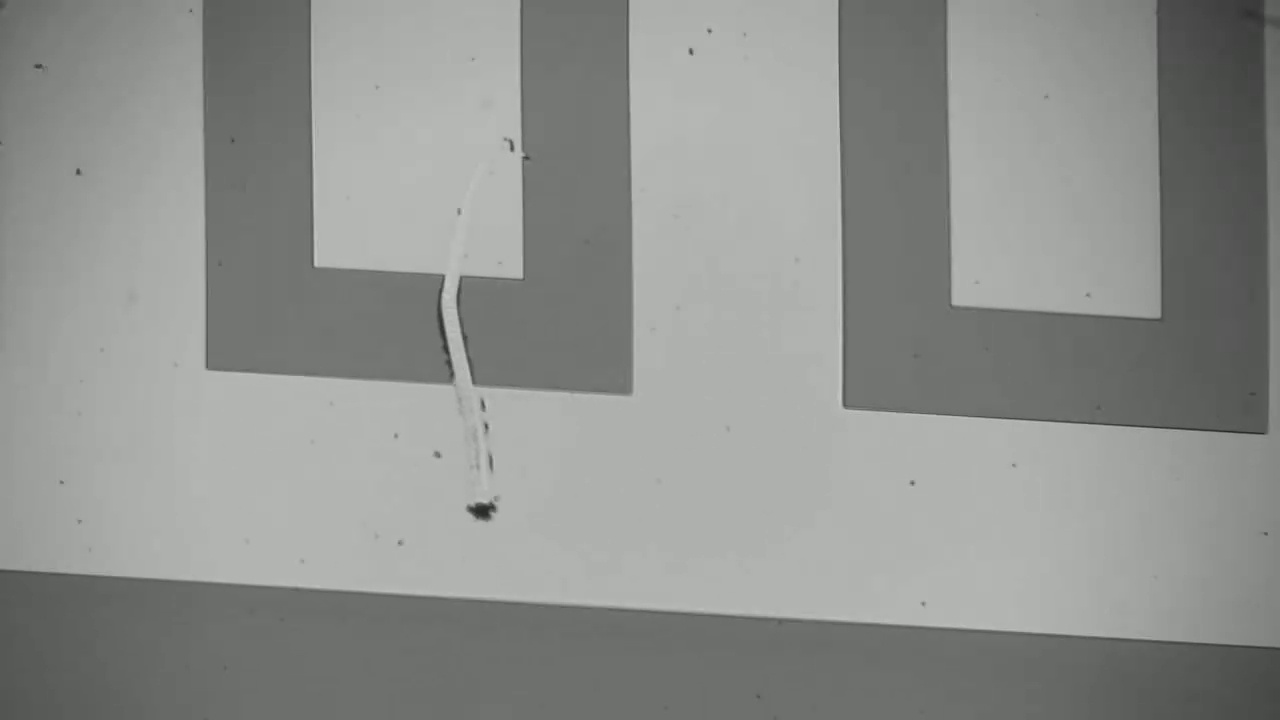Short_circuit: (421, 252, 491, 411)
